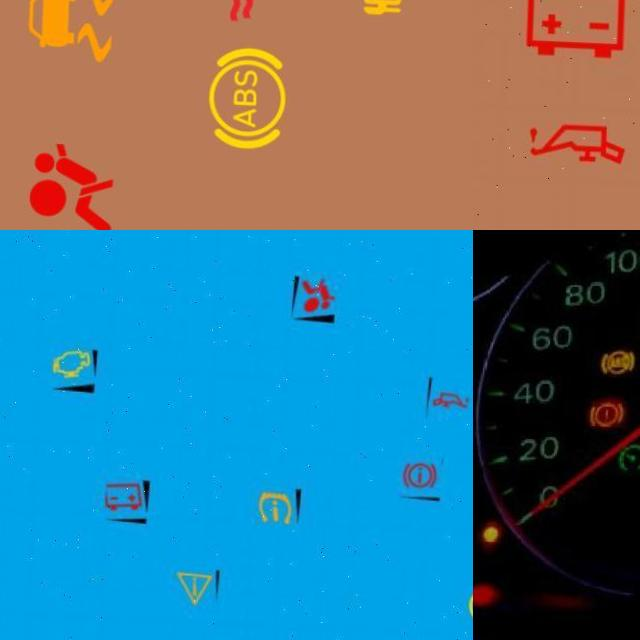High Engine Coolant Temperature: (161, 0, 274, 33)
